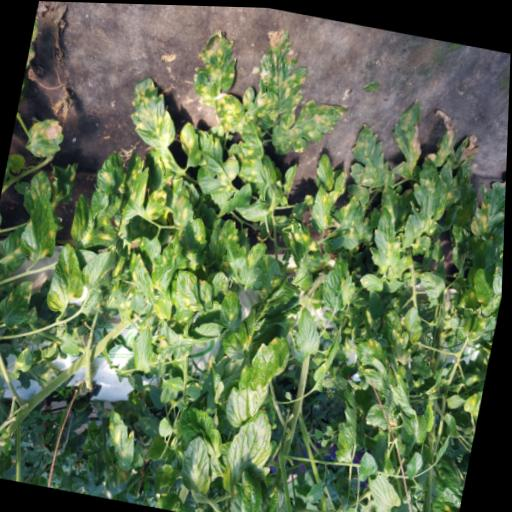Healthy: (358, 445, 384, 481), (406, 445, 427, 478)
Leaf Mold: (220, 262, 310, 368), (223, 324, 294, 434), (67, 144, 134, 252), (219, 395, 285, 501), (340, 330, 406, 427), (269, 89, 350, 165), (250, 25, 315, 118), (382, 356, 441, 441), (123, 72, 186, 151), (172, 402, 232, 482), (402, 148, 449, 243), (189, 20, 243, 102), (187, 124, 246, 198), (383, 91, 432, 178), (278, 214, 331, 292), (74, 237, 121, 324), (232, 116, 287, 189), (344, 117, 398, 188), (44, 239, 93, 316), (17, 187, 66, 263), (147, 225, 198, 297), (371, 303, 421, 375), (419, 448, 472, 512), (221, 461, 286, 512), (366, 200, 410, 274), (467, 167, 507, 243), (319, 245, 364, 312), (102, 404, 145, 471), (331, 188, 377, 248), (117, 147, 154, 221), (179, 429, 222, 492), (213, 213, 254, 278), (312, 314, 345, 392), (23, 111, 69, 161), (177, 211, 214, 272), (41, 156, 81, 212), (291, 303, 327, 364), (20, 164, 57, 220), (0, 273, 36, 330), (207, 87, 251, 133), (170, 266, 211, 314), (0, 219, 34, 276), (237, 235, 271, 288), (155, 328, 199, 366), (130, 323, 162, 373), (174, 118, 207, 166), (308, 182, 338, 231), (217, 285, 248, 330), (462, 304, 499, 340), (469, 261, 500, 302), (400, 301, 428, 342), (233, 191, 270, 222), (416, 265, 449, 299), (312, 148, 339, 189), (170, 191, 198, 226), (144, 183, 170, 220), (334, 424, 358, 461), (463, 383, 486, 417), (357, 268, 387, 293), (14, 343, 38, 373), (161, 370, 189, 392), (0, 350, 7, 383)
